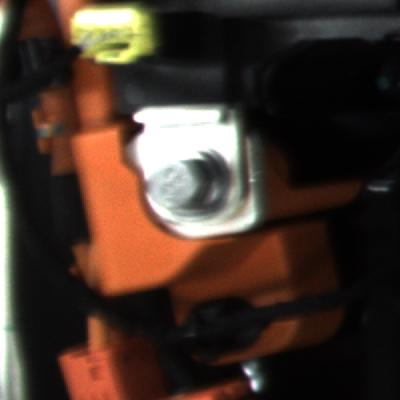nut_b: (140, 148, 239, 231)
